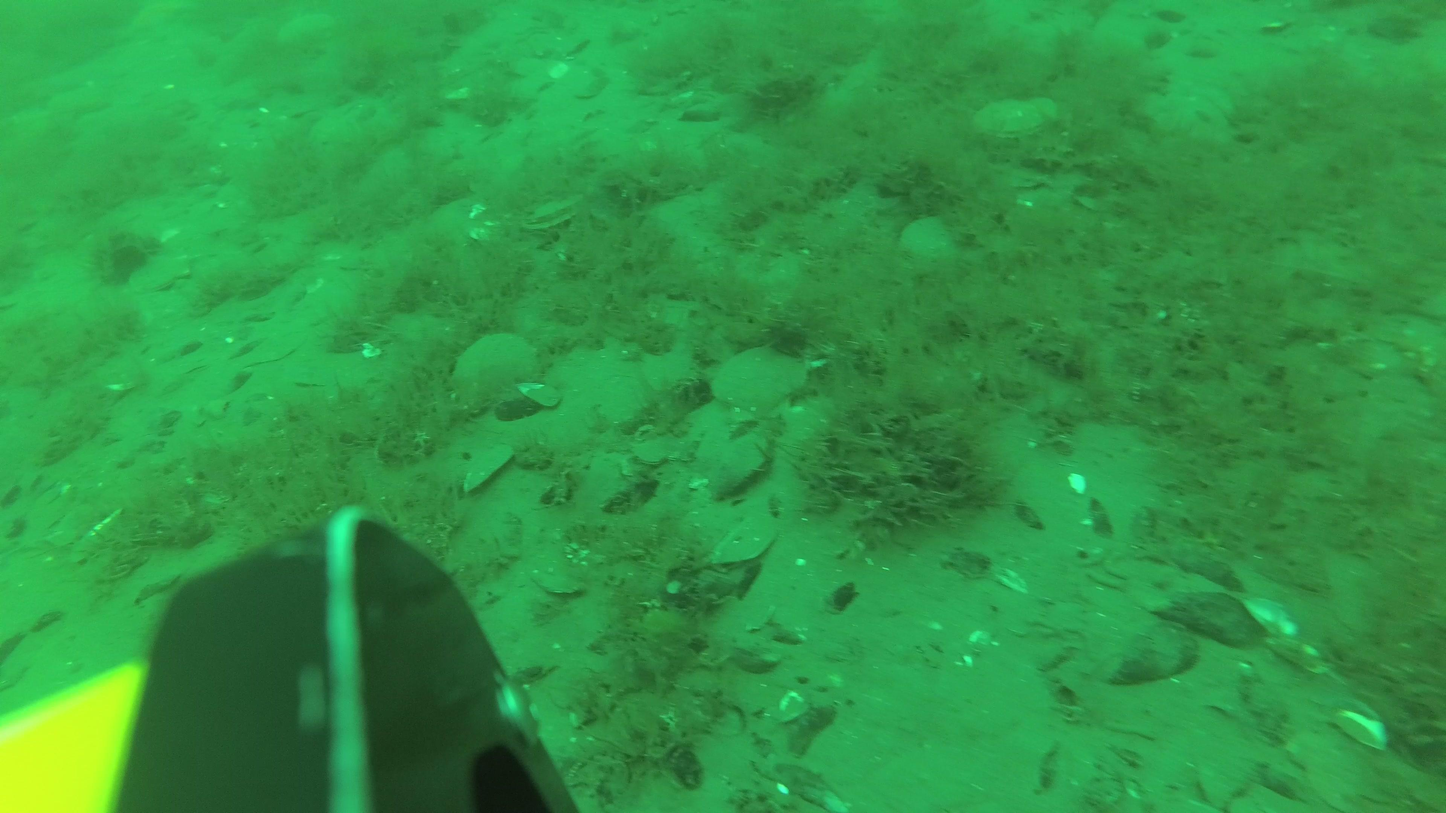scallop: (706, 341, 813, 422), (448, 331, 544, 414), (970, 94, 1064, 143), (899, 208, 961, 269), (520, 192, 592, 236)
